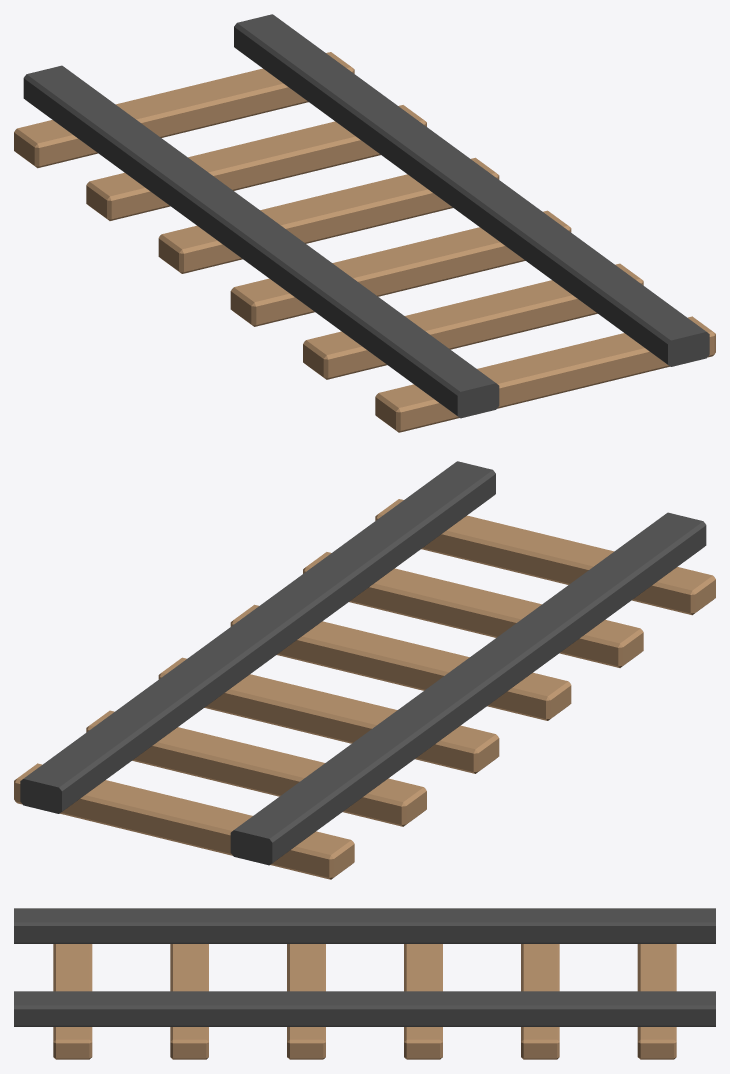
Rendered from rail.glb.
3 views of the same model, one above another, from view 1: azimuth 30°, elevation 25°; view 2: azimuth 150°, elevation 25°; view 3: azimuth 270°, elevation 25° (orthographic). The views are drawn at different scales.
Visible parts, largest first — view 1: Rail (×2); view 2: Rail (×2); view 3: Rail (×2).
Boxes of the visible parts, x1,y1,x2,y2 form: Rail (×2): (14, 14, 715, 432); Rail (×2): (14, 461, 715, 879); Rail (×2): (14, 908, 715, 1059).
Size of the model in its own units: 1.48 by 0.2265 by 3.47.
